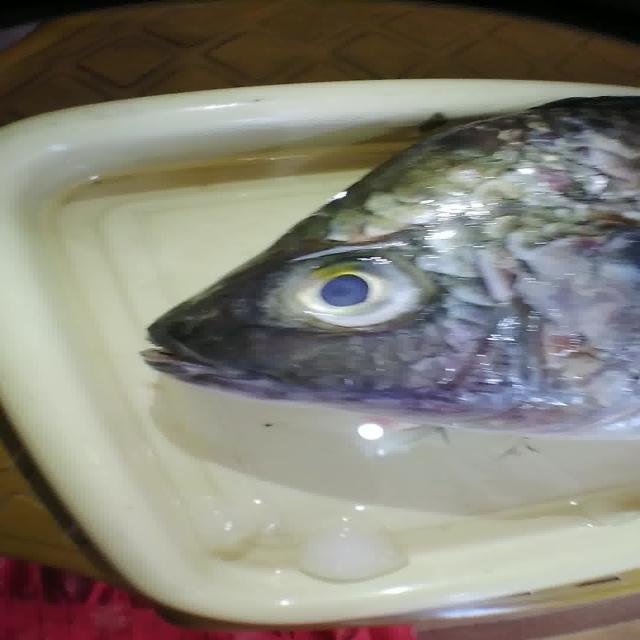Fresh: (269, 240, 439, 338)
